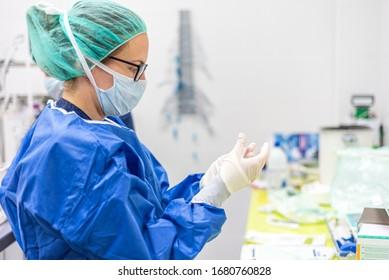gloves: (190, 132, 270, 207)
